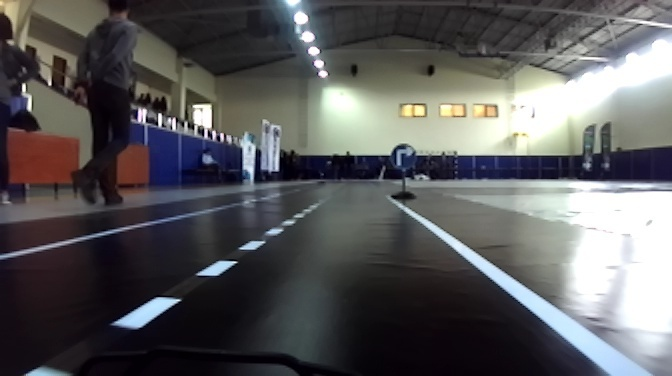saga_donus: (388, 145, 419, 172)
